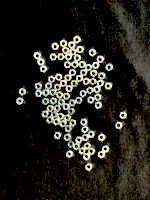nut: (73, 36, 81, 44), (68, 41, 76, 49), (51, 43, 59, 51), (62, 47, 70, 55), (64, 61, 72, 69), (85, 64, 93, 72), (69, 69, 77, 77), (80, 69, 88, 77), (98, 72, 106, 80), (65, 85, 73, 93), (115, 122, 123, 130), (67, 108, 75, 116), (46, 105, 54, 113), (59, 120, 67, 128), (80, 119, 88, 127), (63, 134, 71, 142), (98, 134, 106, 142), (102, 146, 110, 154), (98, 151, 106, 159), (85, 164, 93, 172), (60, 40, 67, 48), (77, 46, 84, 54), (70, 48, 77, 56), (89, 49, 96, 57), (97, 56, 105, 63), (50, 53, 57, 61), (34, 52, 41, 60), (37, 59, 45, 66), (57, 54, 65, 61), (65, 53, 72, 61), (74, 54, 81, 62), (106, 64, 113, 72), (72, 61, 79, 69), (79, 61, 86, 69), (92, 62, 100, 69), (19, 88, 26, 96), (16, 98, 24, 105), (91, 70, 98, 78), (35, 90, 42, 98), (48, 76, 55, 84), (55, 74, 63, 81), (64, 75, 72, 82), (76, 75, 83, 83), (83, 78, 90, 86), (90, 78, 97, 86), (97, 80, 104, 88), (105, 83, 113, 90), (60, 80, 67, 88), (71, 80, 78, 88), (54, 84, 62, 91), (42, 89, 49, 97), (49, 89, 56, 97), (80, 90, 87, 98), (87, 87, 94, 95), (94, 86, 101, 94), (42, 98, 49, 106), (50, 97, 57, 105), (94, 94, 102, 101), (95, 102, 102, 110), (75, 97, 83, 104), (63, 103, 70, 111), (41, 111, 49, 118), (50, 112, 58, 119), (46, 117, 54, 124), (57, 113, 64, 121), (82, 126, 89, 134), (54, 132, 61, 140), (68, 141, 75, 149), (88, 131, 95, 139), (75, 137, 83, 144), (66, 151, 73, 159), (88, 148, 95, 156), (83, 154, 91, 161), (40, 66, 47, 73), (35, 83, 42, 90), (45, 83, 52, 90), (56, 92, 63, 99), (63, 93, 70, 100), (58, 99, 65, 106), (88, 97, 95, 104), (120, 112, 127, 119), (69, 100, 76, 107), (54, 105, 61, 112), (64, 115, 71, 122), (53, 119, 60, 126), (69, 120, 76, 127), (65, 126, 72, 133), (82, 135, 89, 142), (73, 144, 80, 151), (84, 143, 91, 150), (79, 148, 86, 155)
